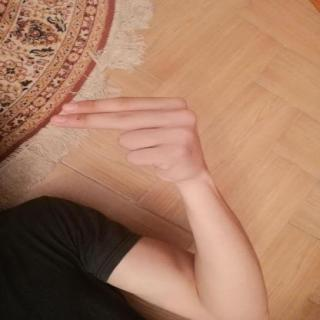AYN: (39, 92, 214, 188)
